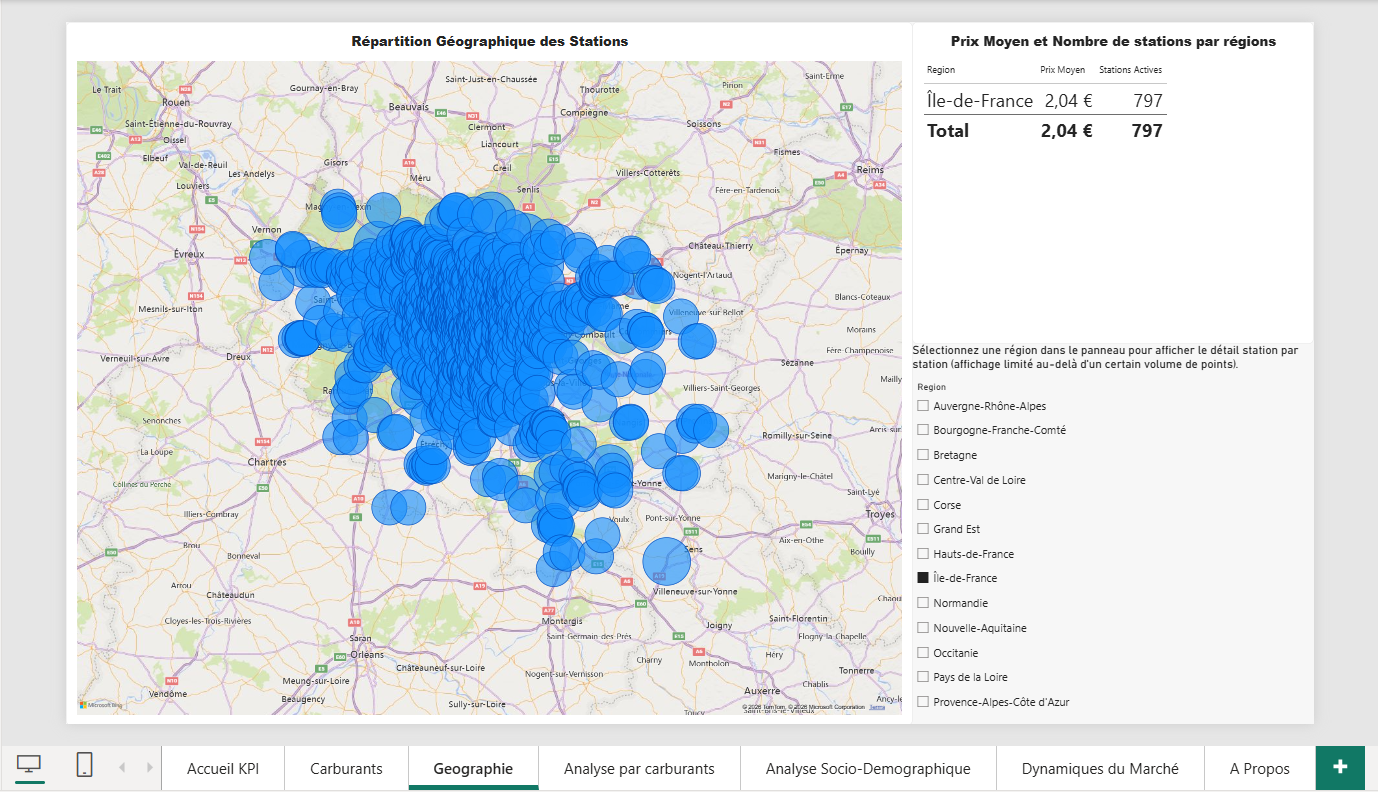

This screenshot's page, from the dashboard's own definition file:
{"tool":"powerbi","page":{"name":"Geographie","canvas":[1920,1080],"ordinal":2},"visuals":[{"type":"map","title":"Répartition Géographique des Stations","fields":{"Size":["Table.Stations Actives"],"X":["Dim_Station.Longitude"],"Y":["Dim_Station.Latitude"]},"box":[0,0,1302.5,1082.5],"z":0},{"type":"tableEx","title":"Prix Moyen et Nombre de stations par régions","fields":{"Values":["Dim_Departement.Region","Table.Prix Moyen National","Table.Stations Actives"]},"box":[1302.5,0,617.5,495],"z":1000},{"type":"slicer","title":"Sélectionnez une région dans le panneau pour afficher le détail  station par station (affichage limité au-delà d''un certain volume  de points).","fields":{"Values":["Dim_Station.Region"]},"box":[1302.5,495,617.5,585],"z":2000}]}

Visuals, with their boxes on the page's 1920x1080 design canvas (x1, y1, x2, y2). These are canvas units, not pixel positions in the 1378x792 screenshot, which may show the page scaled, cropped or inside an application window:
"Répartition Géographique des Stations" map: detection(0, 0, 1302, 1082)
"Prix Moyen et Nombre de stations par régions" tableEx: detection(1302, 0, 1920, 495)
"Sélectionnez une région dans le panneau pour afficher le détail  station par station (affichage limité au-delà d''un certain volume  de points)." slicer: detection(1302, 495, 1920, 1080)
